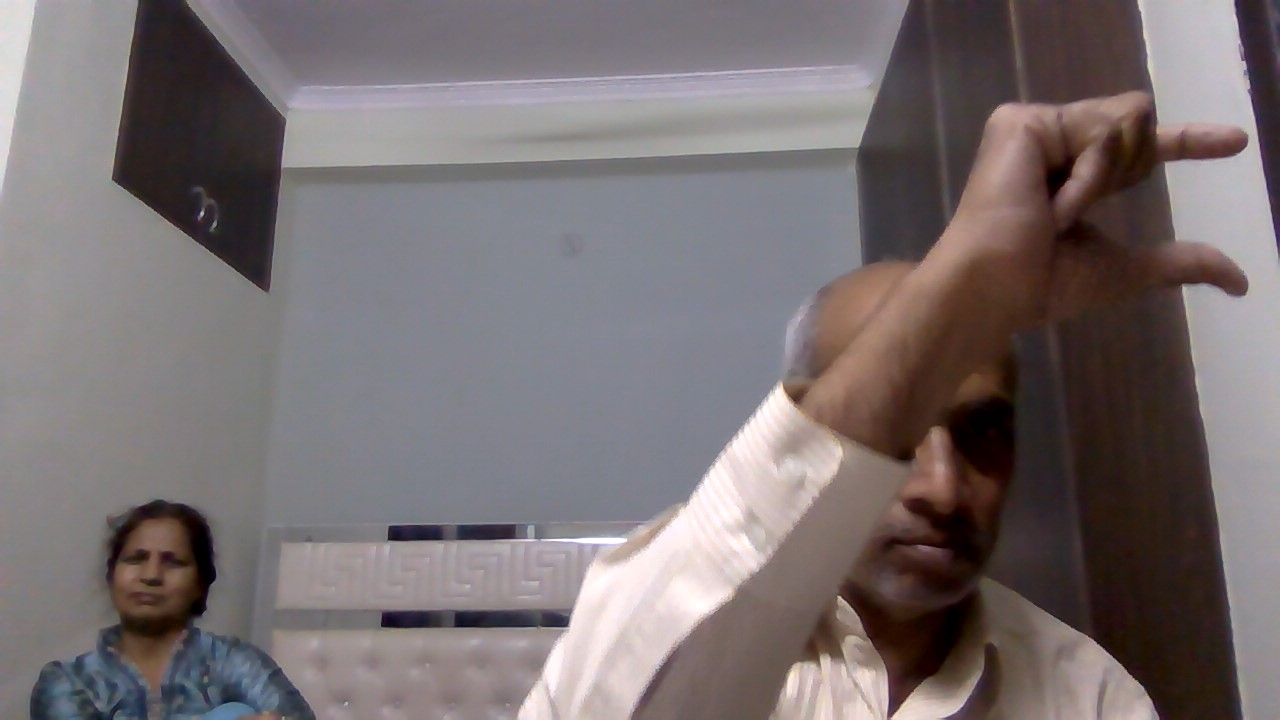Paste: (932, 76, 1265, 358)
